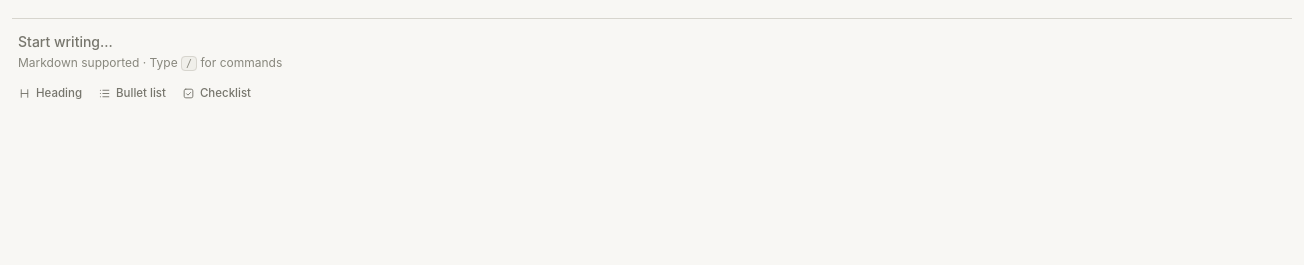
Test: MarkdownEditor › offers quick-start chips on the empty placeholder that seed content and jump straight into editing
What coordinates should you click on to do the following:
click the button "Bullet list"
I would click on:
 (132, 93)
Its box is top-left (92, 82), bottom-right (172, 104).
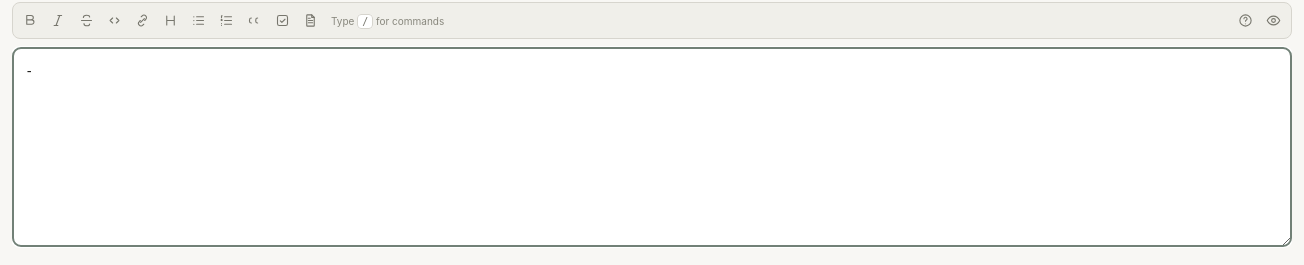
Now the text box named "Note body" holds "- "
